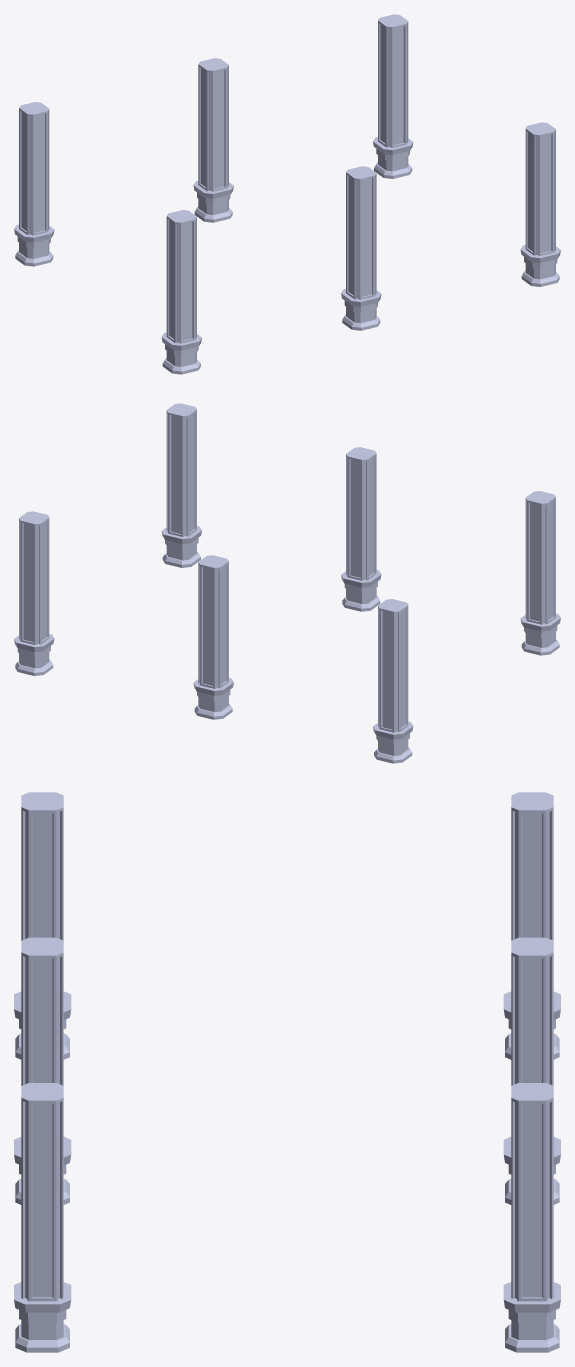
File: WR_Long_Pillar.fbx
3 renders of one model, top to bottom at view 1: azimuth 30°, elevation 25°; view 2: azimuth 150°, elevation 25°; view 3: azimuth 270°, elevation 25°, orthographic. The views are drawn at different scales.
Visible parts, largest first — view 1: Pillar_long; view 2: Pillar_long; view 3: Pillar_long.
Boxes of the visible parts, bbox=[...] form: Pillar_long: bbox=[14, 14, 560, 374]; Pillar_long: bbox=[14, 403, 560, 763]; Pillar_long: bbox=[14, 792, 560, 1352].
Bounding box in the file's own units: 85.16 × 31.45 × 62.55.
